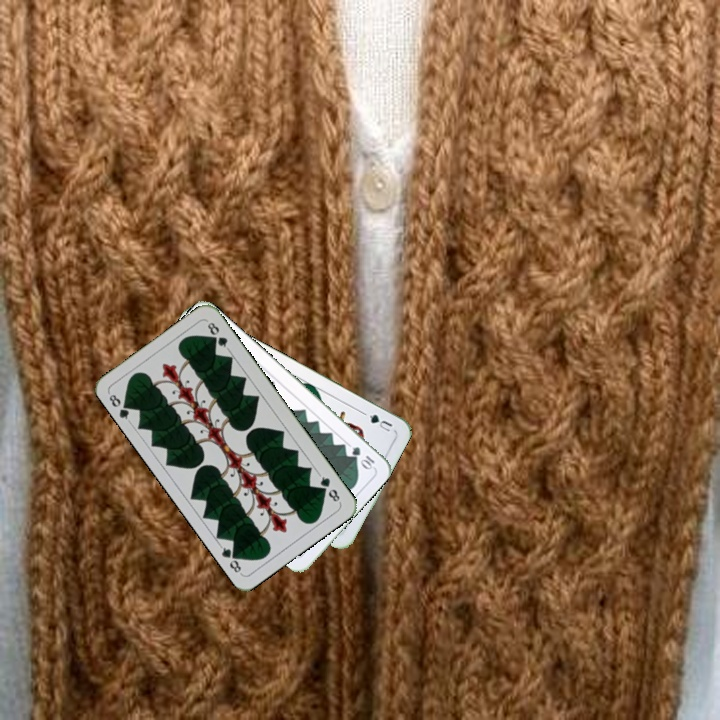G10: (348, 442, 378, 472)
G8: (104, 390, 135, 425), (314, 470, 343, 505)
GU: (364, 410, 395, 434)
